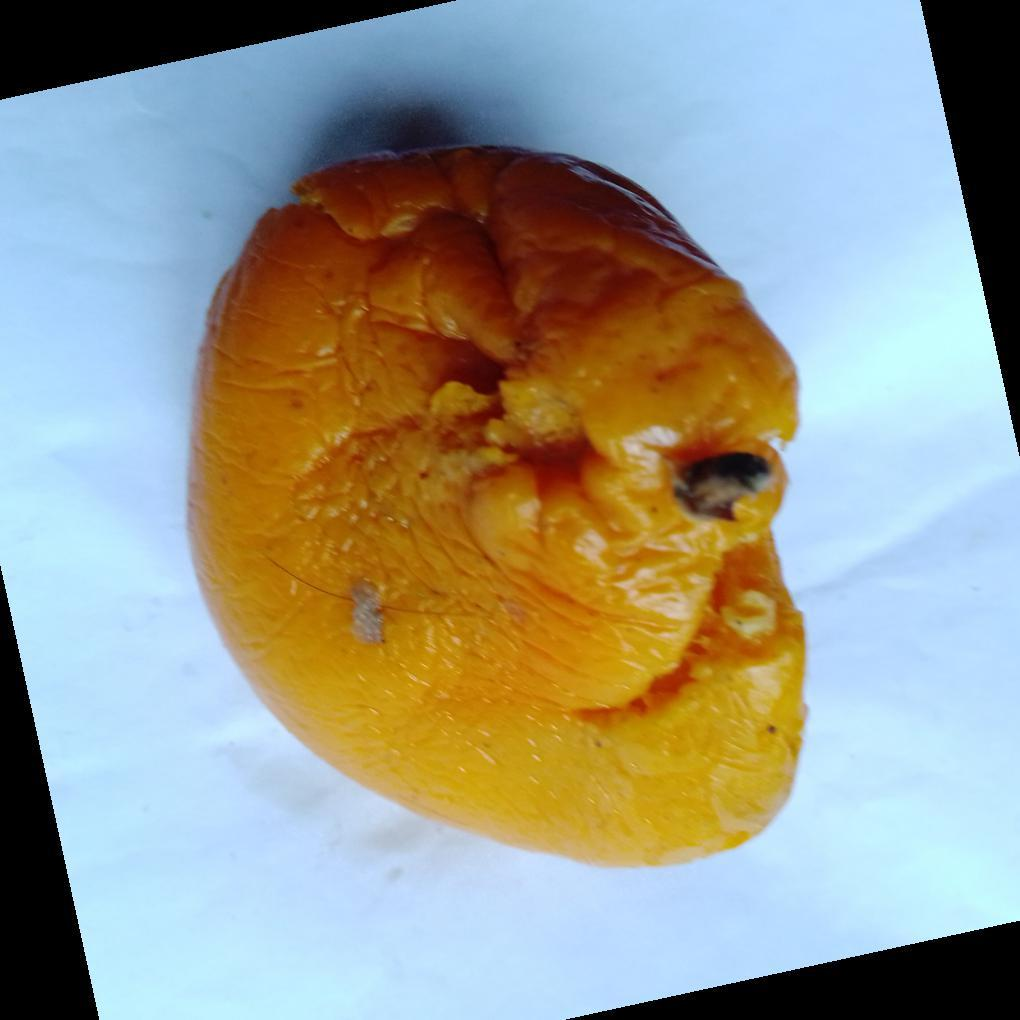FreshOrange: (186, 146, 808, 873)
